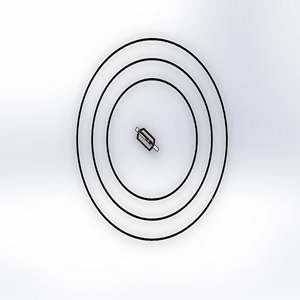circle: (74, 35, 232, 246)
submarine: (129, 122, 164, 158)
